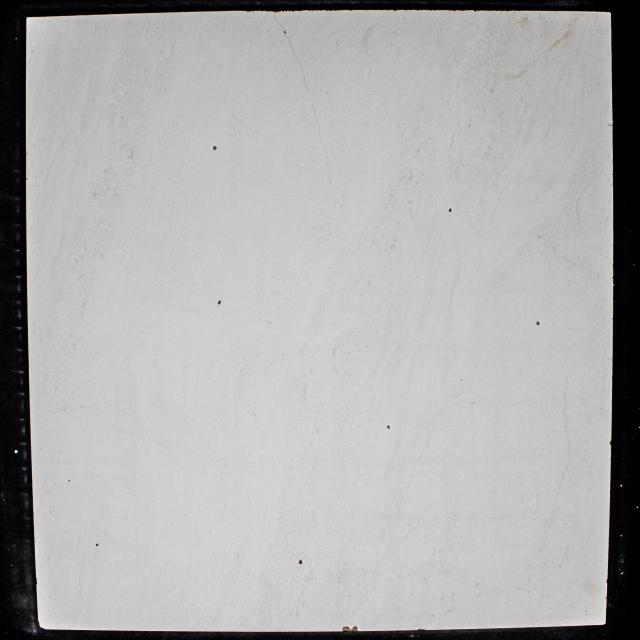edge-chipping: (342, 626, 351, 633), (351, 625, 359, 632), (417, 628, 426, 631), (609, 440, 612, 446)
hole: (216, 300, 222, 306), (298, 559, 304, 565), (212, 145, 217, 151), (536, 320, 540, 326), (448, 207, 452, 213), (387, 424, 390, 430), (95, 543, 99, 547)
line: (302, 74, 315, 114), (272, 11, 288, 37), (288, 38, 301, 69), (316, 118, 324, 147)
